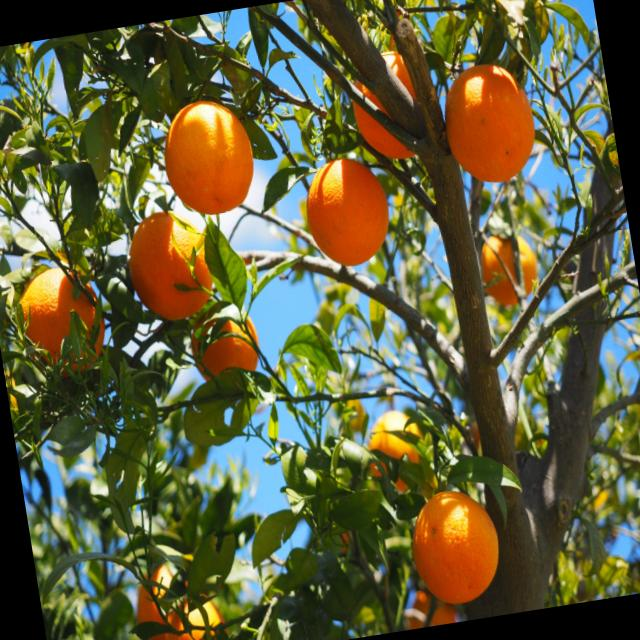laranja: (438, 58, 542, 188), (158, 97, 258, 220), (120, 205, 217, 326), (3, 261, 105, 363), (303, 156, 392, 269), (411, 491, 499, 603), (193, 318, 267, 392), (346, 101, 412, 170), (382, 47, 419, 102), (354, 81, 388, 111)
